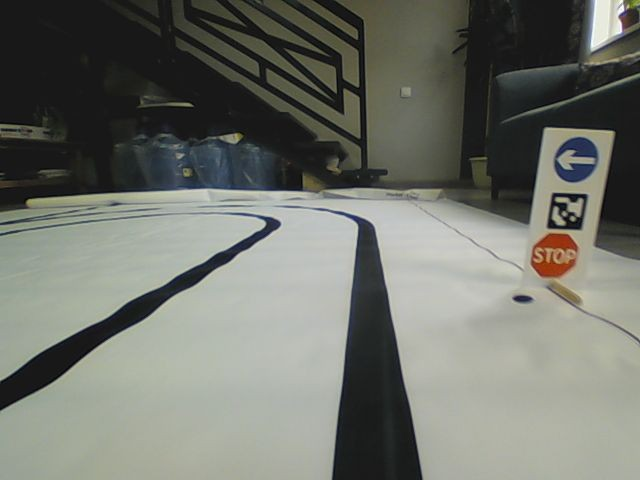Stop: (528, 231, 581, 280)
